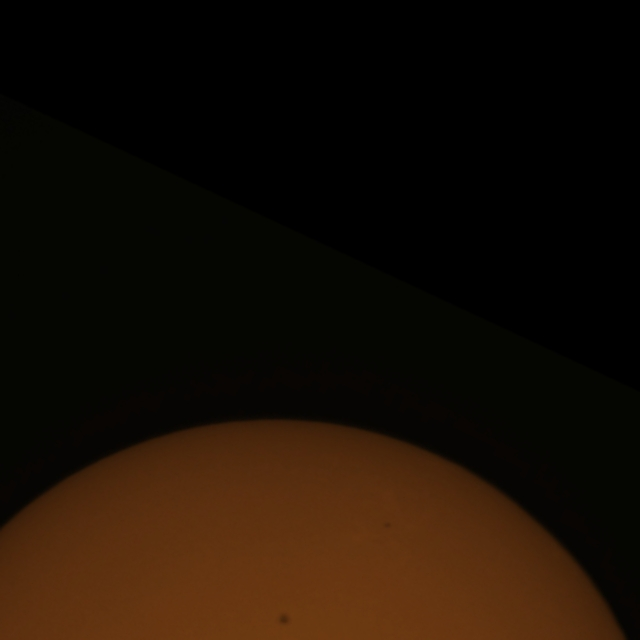sunspot: (276, 611, 292, 628), (382, 520, 392, 530)
